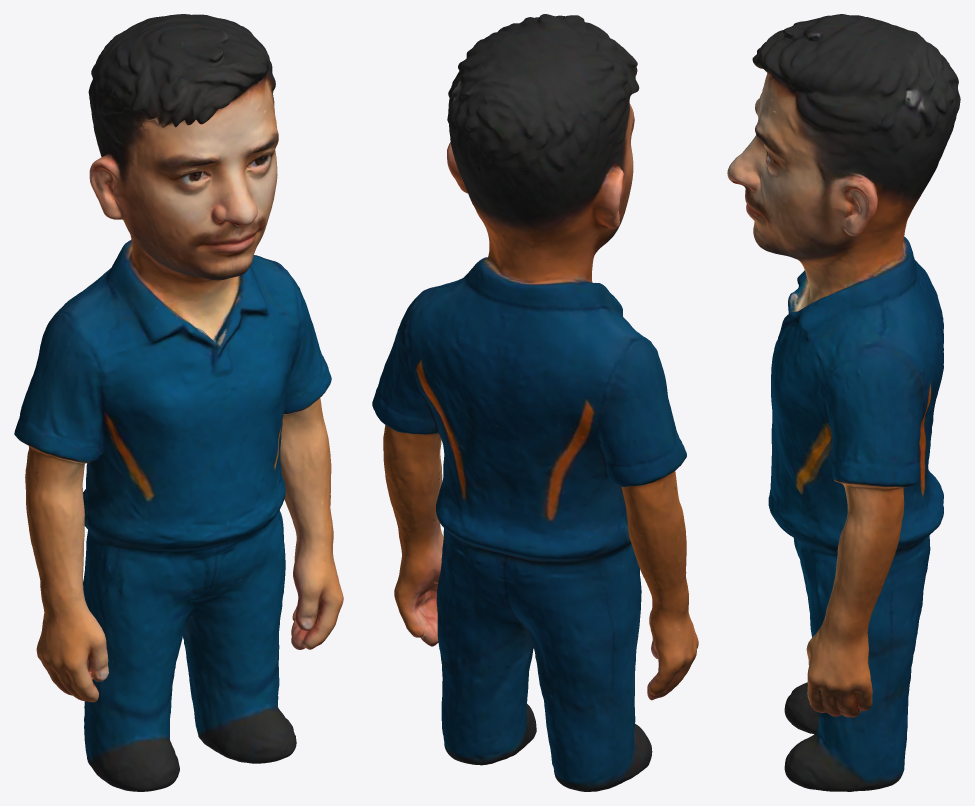
3 views of the same model, side by side, from view 1: azimuth 30°, elevation 25°; view 2: azimuth 150°, elevation 25°; view 3: azimuth 270°, elevation 25° (orthographic).
Size of the model in its own units: 0.8185 by 1.9 by 0.5523.
1 material, 1 textured.
